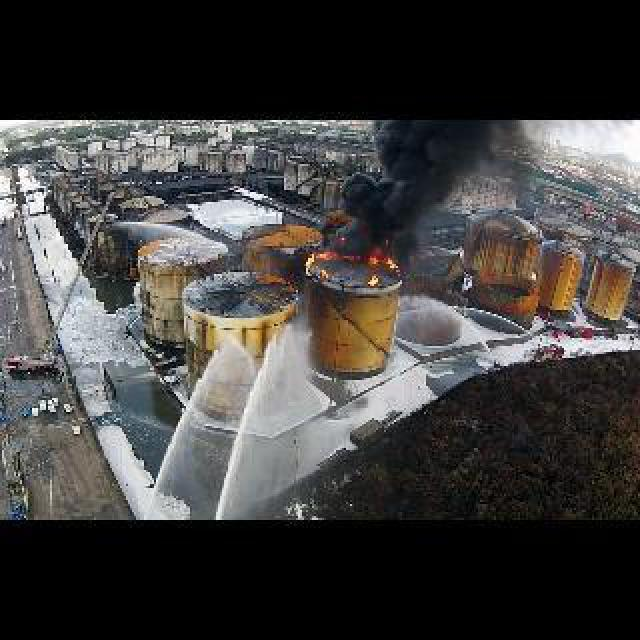Fire: (316, 246, 338, 258), (384, 252, 400, 268), (368, 268, 382, 284), (302, 250, 314, 268), (370, 254, 380, 264), (320, 268, 330, 278)
Smoke: (330, 162, 422, 248), (424, 118, 474, 220), (474, 118, 546, 184), (354, 120, 424, 162), (548, 118, 638, 144)
